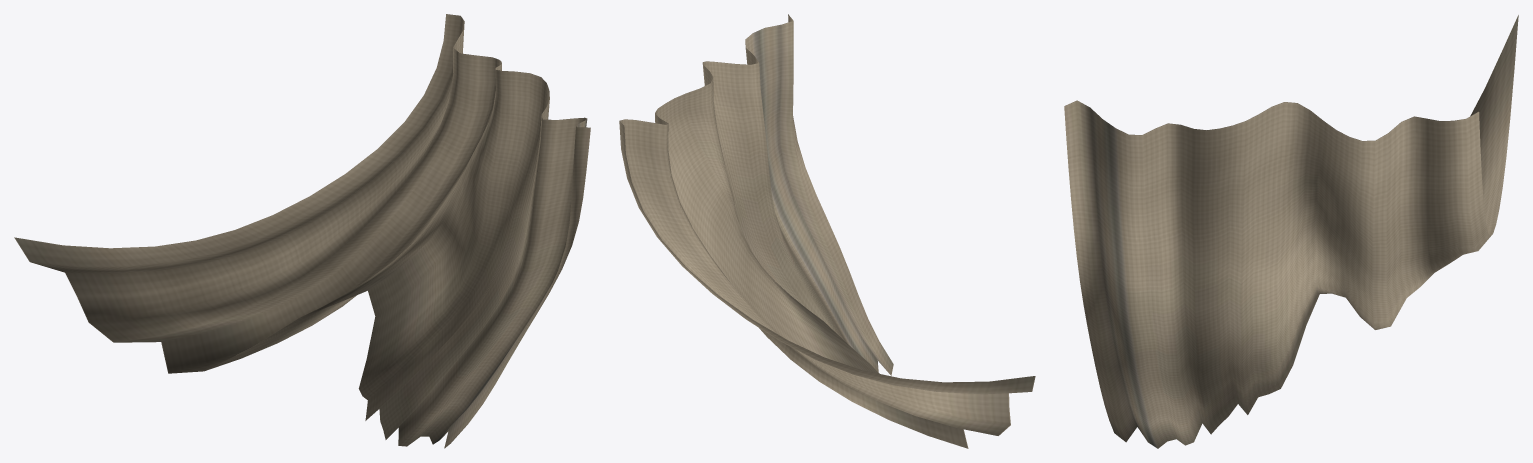
The model's file is hof-708-vorhang.glb.
3 renders of one model, left to right at view 1: azimuth 30°, elevation 25°; view 2: azimuth 150°, elevation 25°; view 3: azimuth 270°, elevation 25°, orthographic. The views are drawn at different scales.
Parts seen in each view (by area): view 1: Vorhang; view 2: Vorhang; view 3: Vorhang.
Boxes of the visible parts, bbox=[...] form: Vorhang: bbox=[14, 14, 590, 448]; Vorhang: bbox=[619, 14, 1035, 448]; Vorhang: bbox=[1064, 15, 1518, 448].
Size of the model in its own units: 1.08 by 0.7656 by 0.7296.
1 material, 1 textured.
